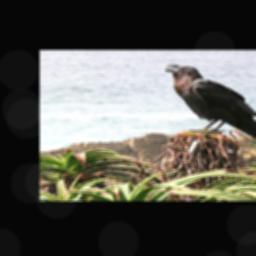Crow: (159, 63, 256, 143)
